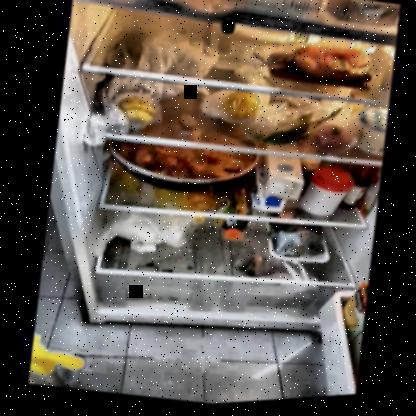broccoli: (259, 220, 328, 270)
butter: (323, 0, 398, 38)
carrot: (267, 40, 375, 97)
cheese: (243, 0, 320, 24)
green_chillies: (239, 111, 319, 157)
lemon: (110, 92, 161, 130), (215, 90, 262, 127)
milk: (219, 17, 349, 62), (246, 156, 304, 220)
tomato: (307, 123, 355, 159)
yoghurt: (348, 109, 388, 162)
